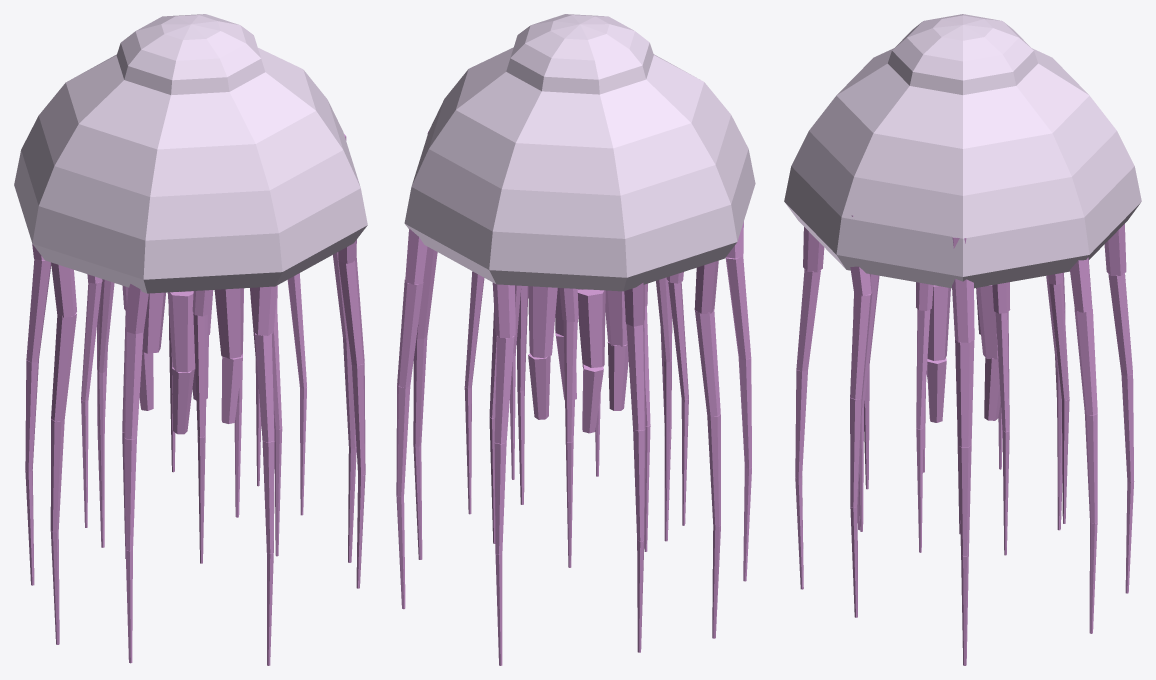
File: Jellyfish.fbx
3 renders of one model, left to right at view 1: azimuth 30°, elevation 25°; view 2: azimuth 150°, elevation 25°; view 3: azimuth 270°, elevation 25°, orthographic. The views are drawn at different scales.
Visible parts, largest first — view 1: Jellyfish_Bell, Jellyfish_OralArm_2_Seg01, Jellyfish_Tent_4_Seg01, Jellyfish_OralArm_3_Seg01, Jellyfish_Tent_5_Seg01, Jellyfish_Tent_7_Seg01, Jellyfish_Tent_6_Seg01, Jellyfish_Tent_3_Seg01, Jellyfish_Mid_5_Seg01, Jellyfish_Mid_3_Seg01, Jellyfish_Tent_4_Seg02, Jellyfish_Tent_5_Seg02 (+26 smaller); view 2: Jellyfish_Bell, Jellyfish_OralArm_1_Seg01, Jellyfish_OralArm_0_Seg01, Jellyfish_Tent_4_Seg01, Jellyfish_Tent_1_Seg01, Jellyfish_Tent_3_Seg01, Jellyfish_Tent_2_Seg01, Jellyfish_Tent_5_Seg01, Jellyfish_Mid_2_Seg01, Jellyfish_Mid_4_Seg01, Jellyfish_Tent_1_Seg02, Jellyfish_OralArm_2_Seg02 (+33 smaller); view 3: Jellyfish_Bell, Jellyfish_Tent_0_Seg01, Jellyfish_Tent_1_Seg01, Jellyfish_Tent_7_Seg01, Jellyfish_Tent_2_Seg01, Jellyfish_Tent_6_Seg01, Jellyfish_OralArm_3_Seg01, Jellyfish_Tent_0_Seg00, Jellyfish_Mid_1_Seg01, Jellyfish_Mid_0_Seg01, Jellyfish_Mid_7_Seg01, Jellyfish_Tent_0_Seg02 (+20 smaller).
Part boxes in pixels (left/top/right/bottom): Jellyfish_Bell: left=14, top=14, right=367, bottom=293; Jellyfish_OralArm_2_Seg01: left=167, top=291, right=195, bottom=372; Jellyfish_Tent_4_Seg01: left=51, top=313, right=76, bottom=421; Jellyfish_OralArm_3_Seg01: left=214, top=288, right=243, bottom=358; Jellyfish_Tent_5_Seg01: left=124, top=328, right=143, bottom=439; Jellyfish_Tent_7_Seg01: left=338, top=257, right=364, bottom=365; Jellyfish_Tent_6_Seg01: left=255, top=333, right=274, bottom=442; Jellyfish_Tent_3_Seg01: left=26, top=259, right=51, bottom=362; Jellyfish_Mid_5_Seg01: left=193, top=313, right=207, bottom=437; Jellyfish_Mid_3_Seg01: left=81, top=282, right=101, bottom=401; Jellyfish_Tent_4_Seg02: left=50, top=419, right=64, bottom=531; Jellyfish_Tent_5_Seg02: left=124, top=437, right=136, bottom=550; Jellyfish_Bell: left=404, top=14, right=755, bottom=291; Jellyfish_OralArm_1_Seg01: left=577, top=289, right=605, bottom=367; Jellyfish_OralArm_0_Seg01: left=528, top=286, right=557, bottom=358; Jellyfish_Tent_4_Seg01: left=695, top=309, right=720, bottom=416; Jellyfish_Tent_1_Seg01: left=397, top=279, right=423, bottom=387; Jellyfish_Tent_3_Seg01: left=626, top=322, right=645, bottom=430; Jellyfish_Tent_2_Seg01: left=494, top=336, right=514, bottom=443; Jellyfish_Tent_5_Seg01: left=725, top=257, right=751, bottom=359; Jellyfish_Mid_2_Seg01: left=563, top=319, right=577, bottom=442; Jellyfish_Mid_4_Seg01: left=668, top=281, right=688, bottom=399; Jellyfish_Tent_1_Seg02: left=396, top=384, right=410, bottom=496; Jellyfish_OralArm_2_Seg02: left=607, top=342, right=628, bottom=410; Jellyfish_Bell: left=784, top=14, right=1141, bottom=288; Jellyfish_Tent_0_Seg01: left=955, top=340, right=974, bottom=447; Jellyfish_Tent_1_Seg01: left=1074, top=309, right=1097, bottom=415; Jellyfish_Tent_7_Seg01: left=850, top=292, right=871, bottom=399; Jellyfish_Tent_2_Seg01: left=1108, top=273, right=1132, bottom=375; Jellyfish_Tent_6_Seg01: left=796, top=269, right=820, bottom=371; Jellyfish_OralArm_3_Seg01: left=927, top=285, right=950, bottom=360; Jellyfish_Tent_0_Seg00: left=952, top=237, right=974, bottom=342; Jellyfish_Mid_1_Seg01: left=1049, top=283, right=1069, bottom=400; Jellyfish_Mid_0_Seg01: left=995, top=312, right=1009, bottom=431; Jellyfish_Mid_7_Seg01: left=916, top=309, right=930, bottom=429; Jellyfish_Tent_0_Seg02: left=958, top=445, right=971, bottom=556.
Bounding box in the file's own units: 207 × 357 × 202.
